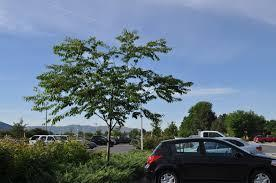tree: (25, 28, 196, 159)
